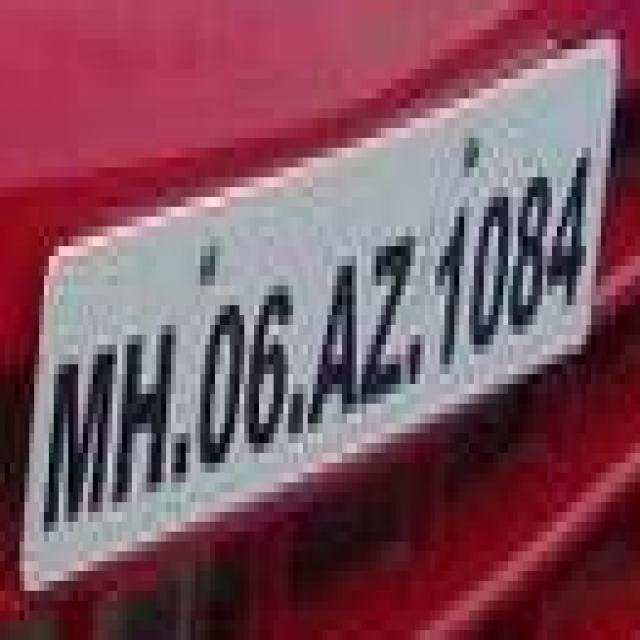license_plate: (0, 158, 606, 552)
